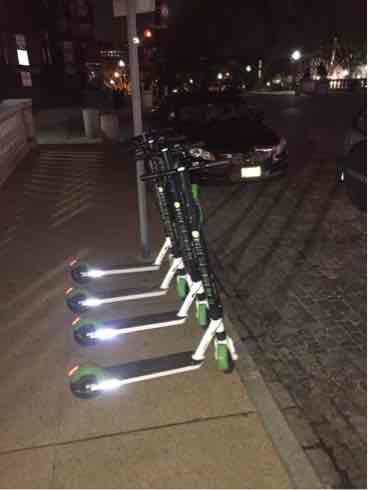too close: (194, 329, 259, 389)
